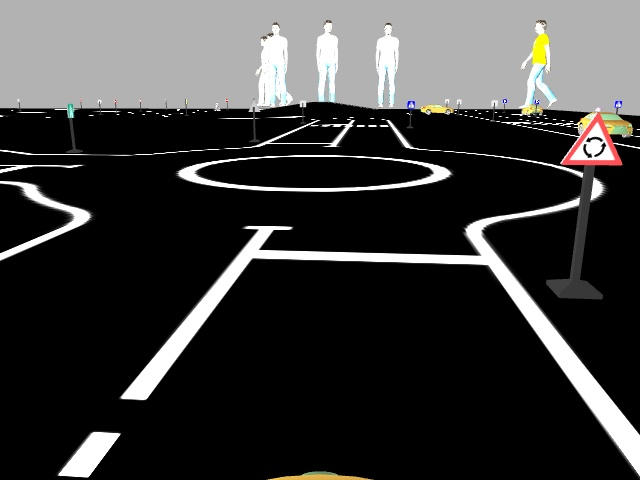Roundabout: (558, 110, 622, 169)
